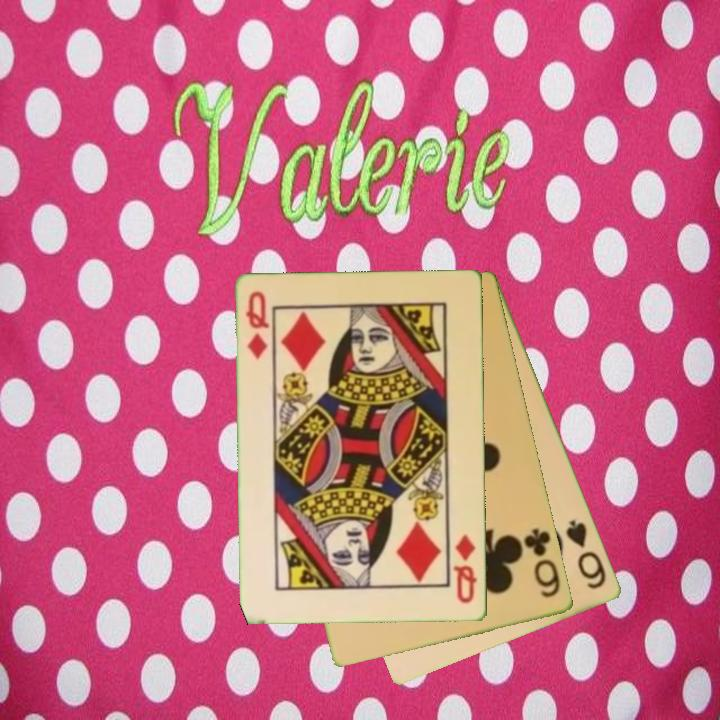6c: (521, 525, 564, 601)
6s: (563, 516, 610, 593)
Qd: (242, 288, 273, 362), (450, 531, 480, 606)
